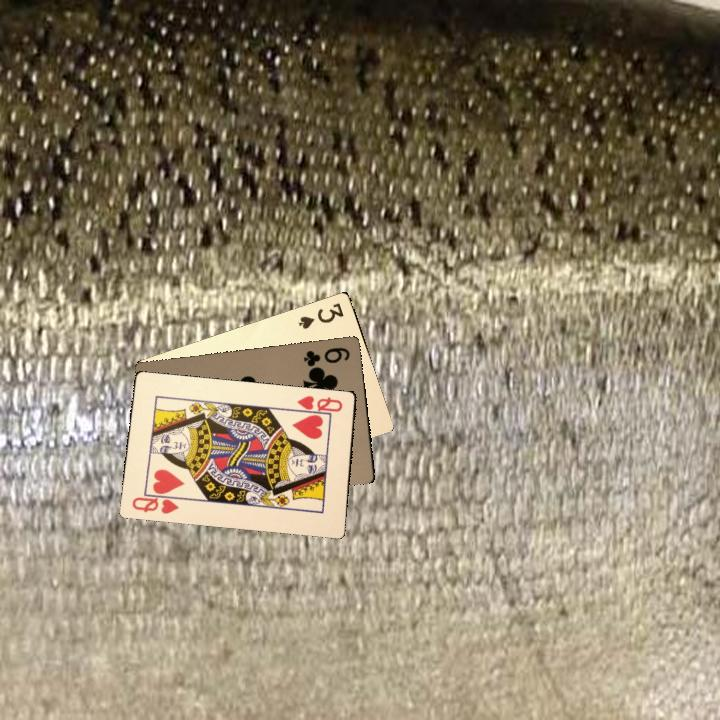3s: (294, 299, 346, 332)
6c: (300, 343, 352, 369)
Qh: (128, 489, 183, 516), (293, 391, 345, 418)
